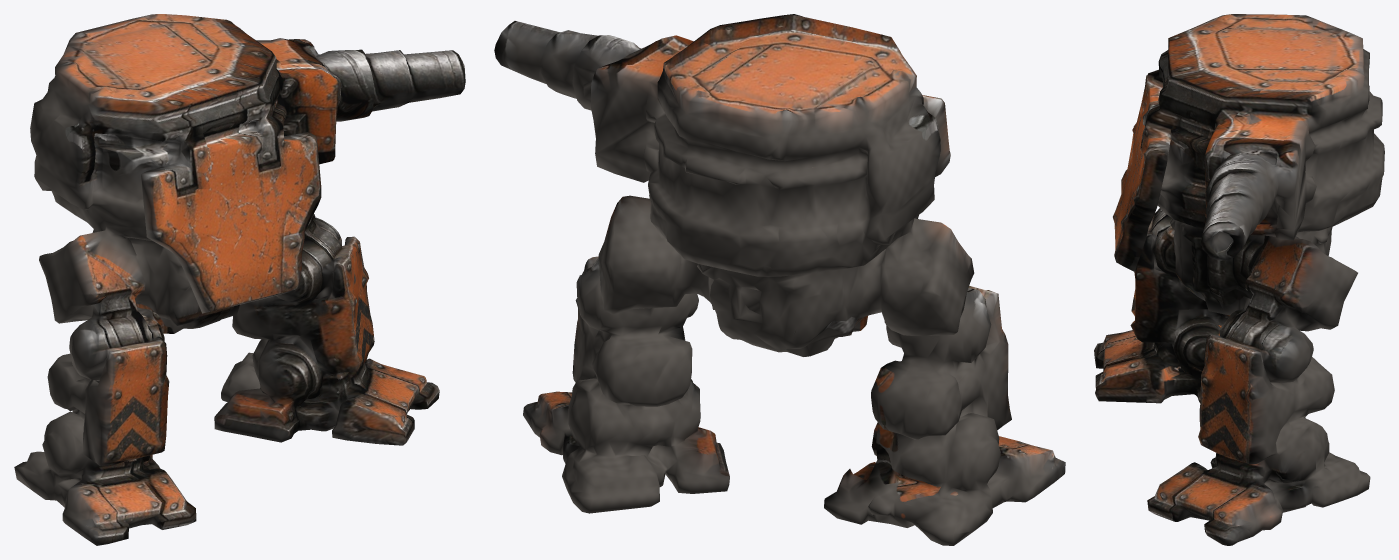
File: tamper_lod1.glb
3 views of the same model, side by side, from view 1: azimuth 30°, elevation 25°; view 2: azimuth 150°, elevation 25°; view 3: azimuth 270°, elevation 25° (orthographic). The views are drawn at different scales.
Parts seen in each view (by area): view 1: geometry_0; view 2: geometry_0; view 3: geometry_0.
Boxes of the visible parts, box(x1,y1,x2,y2) form: geometry_0: box(14, 14, 465, 545); geometry_0: box(494, 14, 1065, 545); geometry_0: box(1094, 14, 1384, 545).
Size of the model in its own units: 2 by 1.72 by 1.21.
Materials: 1 (1 with a texture image).
